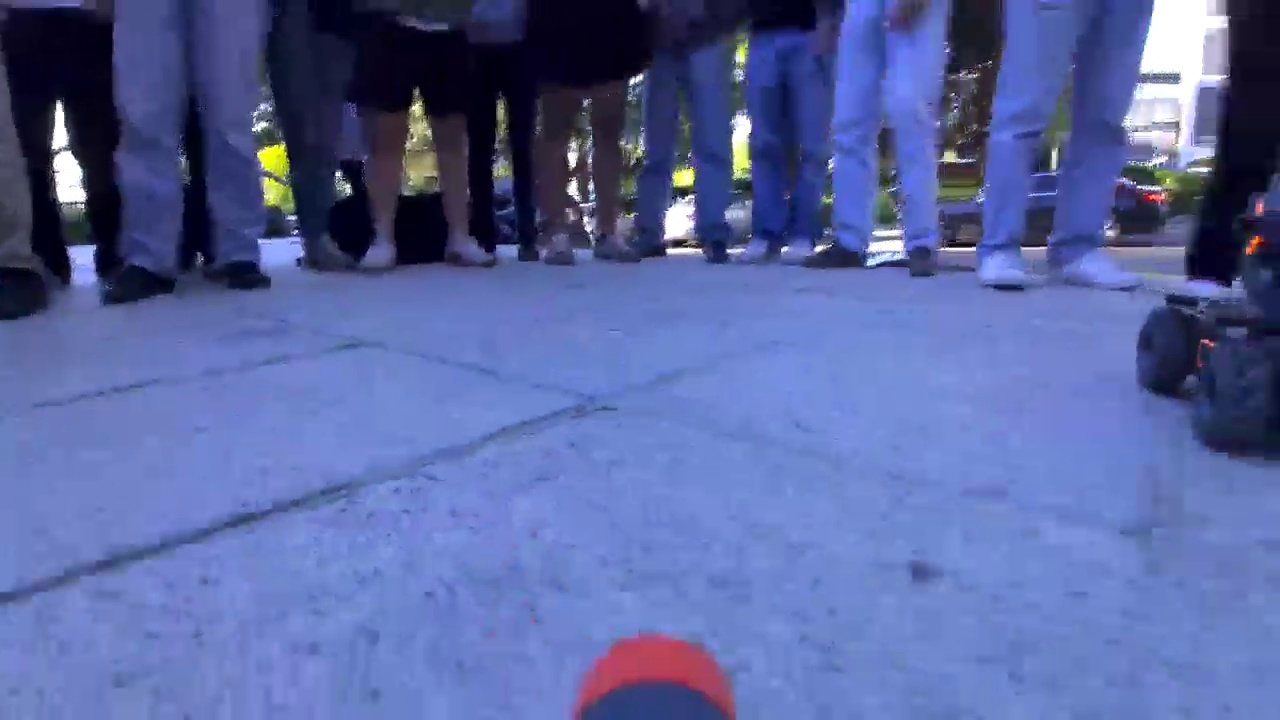robot: (1140, 186, 1280, 465)
